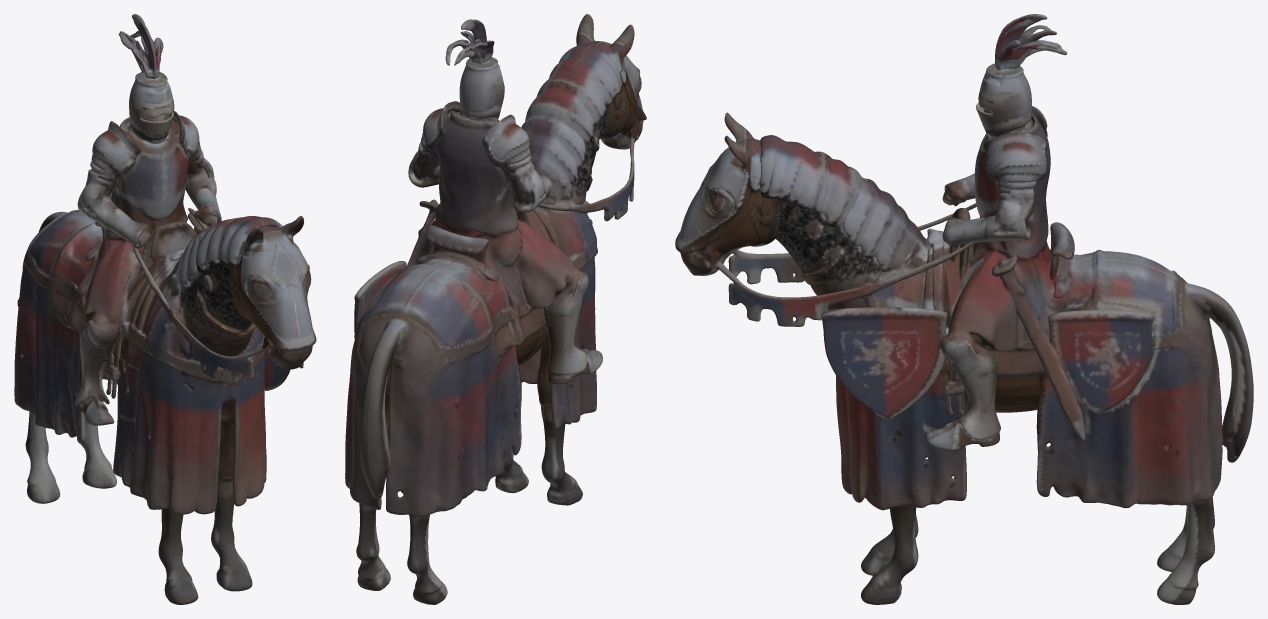
Rendered from tripo_convert_d6d6a720-13b2-4b6c-aa23-d7b8ed37f971.glb.
3 renders of one model, left to right at view 1: azimuth 30°, elevation 25°; view 2: azimuth 150°, elevation 25°; view 3: azimuth 270°, elevation 25°, orthographic. The views are drawn at different scales.
Parts seen in each view (by area): view 1: tripo_node_d6d6a720-13b2-4b6c-aa23-d7b8ed37f971; view 2: tripo_node_d6d6a720-13b2-4b6c-aa23-d7b8ed37f971; view 3: tripo_node_d6d6a720-13b2-4b6c-aa23-d7b8ed37f971.
Part boxes in pixels (bbox=[...]): tripo_node_d6d6a720-13b2-4b6c-aa23-d7b8ed37f971: bbox=[14, 14, 316, 604]; tripo_node_d6d6a720-13b2-4b6c-aa23-d7b8ed37f971: bbox=[345, 14, 646, 604]; tripo_node_d6d6a720-13b2-4b6c-aa23-d7b8ed37f971: bbox=[675, 14, 1253, 604].
Bounding box in the file's own units: 0.3568 × 1 × 0.9177.
Materials: 1 (1 with a texture image).
